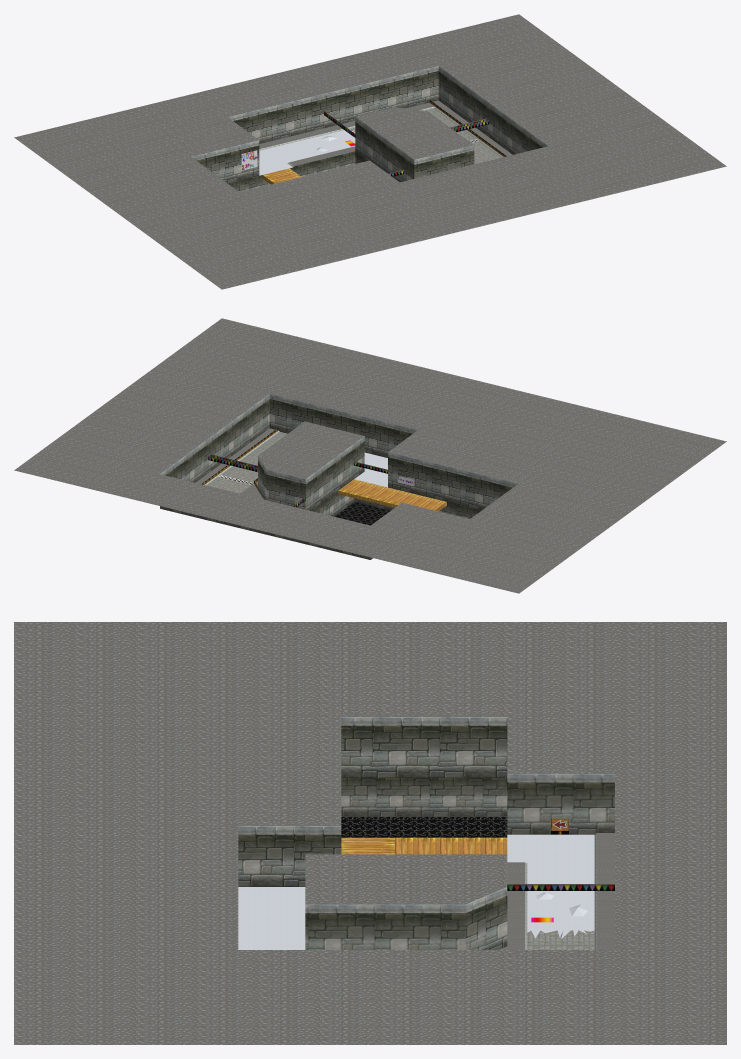
3 views of the same model, one above another, from view 1: azimuth 30°, elevation 25°; view 2: azimuth 150°, elevation 25°; view 3: azimuth 270°, elevation 25° (orthographic). The views are drawn at different scales.
Visible parts, largest first — view 1: Dalisdis-SKP-Mtw_road2.001, Dalisdis-SKP-Mtw_concre1.001, Dalisdis-SKP-snowroad.001, Dalisdis-SKP-Mtw_road1.001, Dalisdis-SKP-Mtw_fuchi1.001; view 2: Dalisdis-SKP-Mtw_road2.001, Dalisdis-SKP-Mtw_concre1.001, Dalisdis-SKP-Mtw_wood1.001, Dalisdis-SKP-Mtw_road1.001, Dalisdis-SKP-yo_wave_tex.001, Dalisdis-SKP-snowroad.001, Dalisdis-SKP-Mtw_fuchi1.001; view 3: Dalisdis-SKP-Mtw_road2.001, Dalisdis-SKP-Mtw_concre1.001, Dalisdis-SKP-snowroad.001, Dalisdis-SKP-yo_wave_tex.001, Dalisdis-SKP-Mtw_wood1.001, Dalisdis-SKP-Mtw_road1.001, Dalisdis-SKP-Mtw_fuchi1.001.
Part boxes in pixels (left/top/right/bottom): Dalisdis-SKP-Mtw_road2.001: left=14, top=14, right=726, bottom=289; Dalisdis-SKP-Mtw_concre1.001: left=191, top=66, right=547, bottom=191; Dalisdis-SKP-snowroad.001: left=259, top=129, right=355, bottom=175; Dalisdis-SKP-Mtw_road1.001: left=349, top=108, right=500, bottom=164; Dalisdis-SKP-Mtw_fuchi1.001: left=324, top=111, right=489, bottom=176; Dalisdis-SKP-Mtw_road2.001: left=14, top=318, right=726, bottom=593; Dalisdis-SKP-Mtw_concre1.001: left=160, top=394, right=517, bottom=559; Dalisdis-SKP-Mtw_wood1.001: left=338, top=479, right=446, bottom=511; Dalisdis-SKP-Mtw_road1.001: left=207, top=432, right=287, bottom=493; Dalisdis-SKP-yo_wave_tex.001: left=334, top=502, right=389, bottom=525; Dalisdis-SKP-snowroad.001: left=354, top=452, right=387, bottom=487; Dalisdis-SKP-Mtw_fuchi1.001: left=208, top=454, right=387, bottom=507; Dalisdis-SKP-Mtw_road2.001: left=14, top=622, right=726, bottom=1044; Dalisdis-SKP-Mtw_concre1.001: left=238, top=717, right=614, bottom=949; Dalisdis-SKP-snowroad.001: left=238, top=834, right=594, bottom=949; Dalisdis-SKP-yo_wave_tex.001: left=341, top=817, right=507, bottom=837; Dalisdis-SKP-Mtw_wood1.001: left=341, top=837, right=507, bottom=854; Dalisdis-SKP-Mtw_road1.001: left=527, top=930, right=594, bottom=949; Dalisdis-SKP-Mtw_fuchi1.001: left=507, top=884, right=614, bottom=890.
Bounding box in the file's own units: 78067 × 8606 × 55650.
13 materials, 13 textured.
